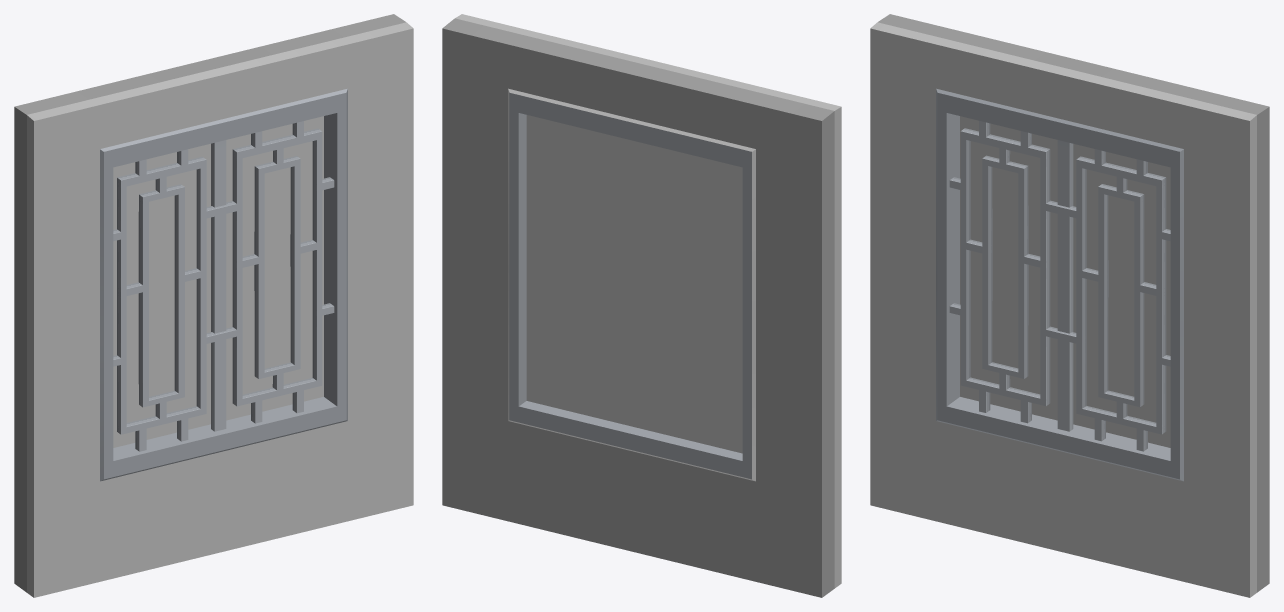
Rendered from SM_Bld_Casino_Window_04.fbx.
3 renders of one model, left to right at view 1: azimuth 30°, elevation 25°; view 2: azimuth 150°, elevation 25°; view 3: azimuth 330°, elevation 25°, orthographic.
Visible parts, largest first — view 1: SM_Bld_Casino_Window_04, SM_Bld_Wall_Window_Glass; view 2: SM_Bld_Casino_Window_04, SM_Bld_Wall_Window_Glass; view 3: SM_Bld_Casino_Window_04, SM_Bld_Wall_Window_Glass.
Part boxes in pixels (box(x1,y1,x2,y2)): SM_Bld_Casino_Window_04: box(14, 14, 413, 597); SM_Bld_Wall_Window_Glass: box(113, 116, 323, 447); SM_Bld_Casino_Window_04: box(442, 14, 841, 597); SM_Bld_Wall_Window_Glass: box(526, 115, 742, 453); SM_Bld_Casino_Window_04: box(870, 14, 1269, 597); SM_Bld_Wall_Window_Glass: box(960, 116, 1170, 447).
Bounding box in the file's own units: 250 × 301 × 25.56.
